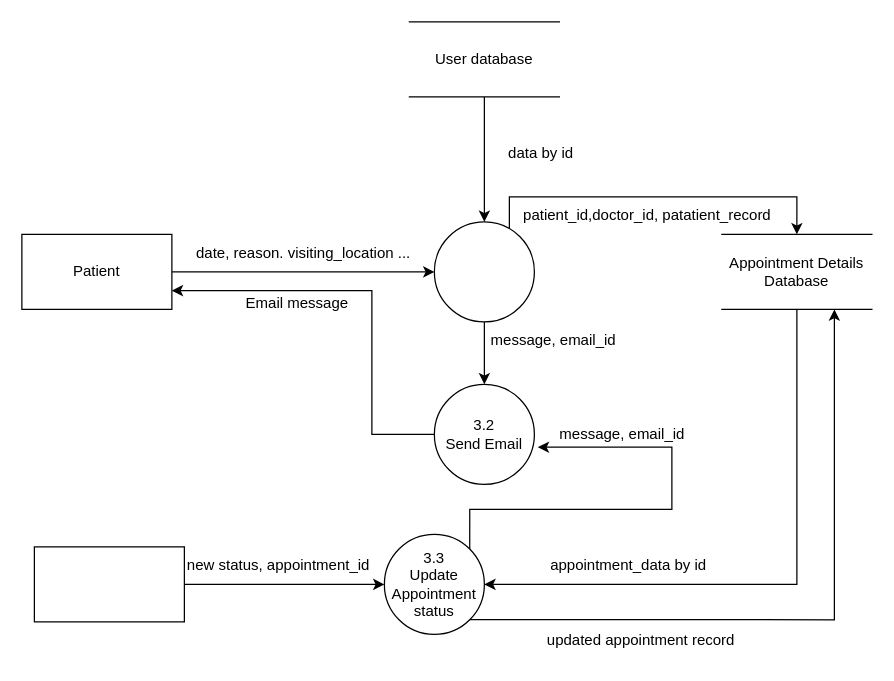
Some shapes in this 894 by 681 pixel diagram are drawn without their labels. The shapes that lost their labels are listed below. From the top down, each one's box as (x1, y1, x2, y2) in pixels, then its label:
(433, 221, 534, 322): 3.1 Serialization
(33, 546, 184, 622): doctor
